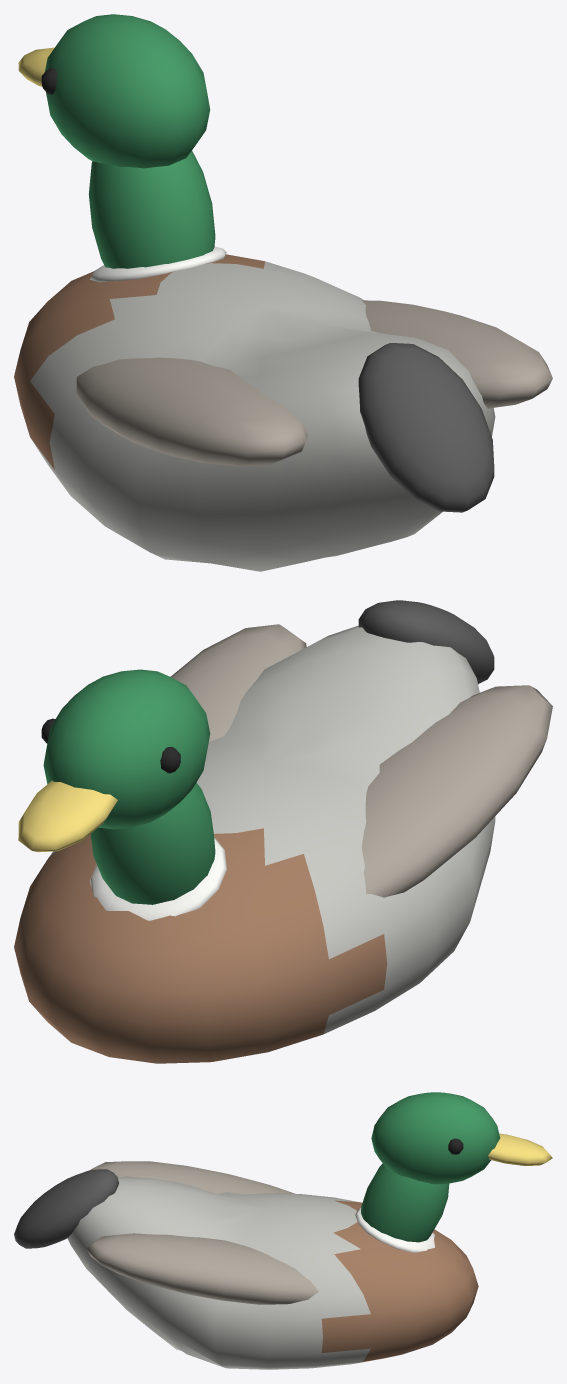
File: ParkDuck.fbx
The picture shows the model from 3 angles, top to bottom: view 1: azimuth 30°, elevation 25°; view 2: azimuth 150°, elevation 25°; view 3: azimuth 270°, elevation 25°; orthographic projection. The views are drawn at different scales.
Visible parts, largest first — view 1: ParkDuck; view 2: ParkDuck; view 3: ParkDuck.
Boxes of the visible parts, bbox=[...] form: ParkDuck: bbox=[14, 14, 552, 571]; ParkDuck: bbox=[14, 600, 552, 1063]; ParkDuck: bbox=[14, 1092, 552, 1369].
Size of the model in its own units: 0.3314 by 0.33 by 0.6933.
